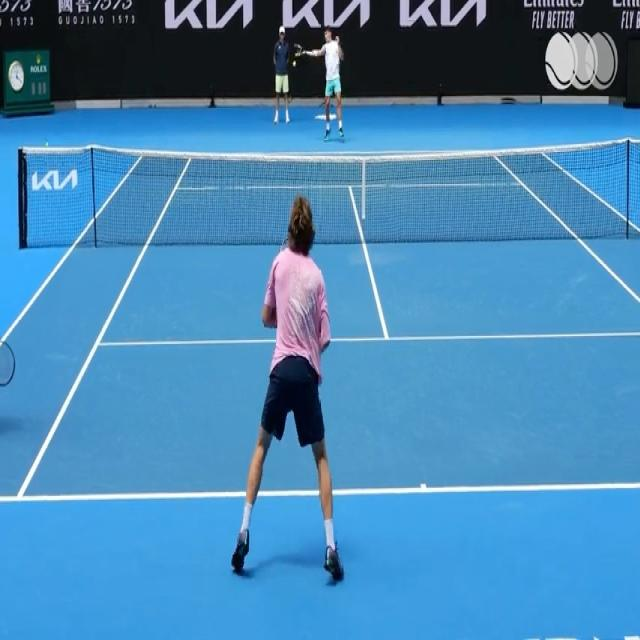ready-position: (232, 194, 344, 579)
